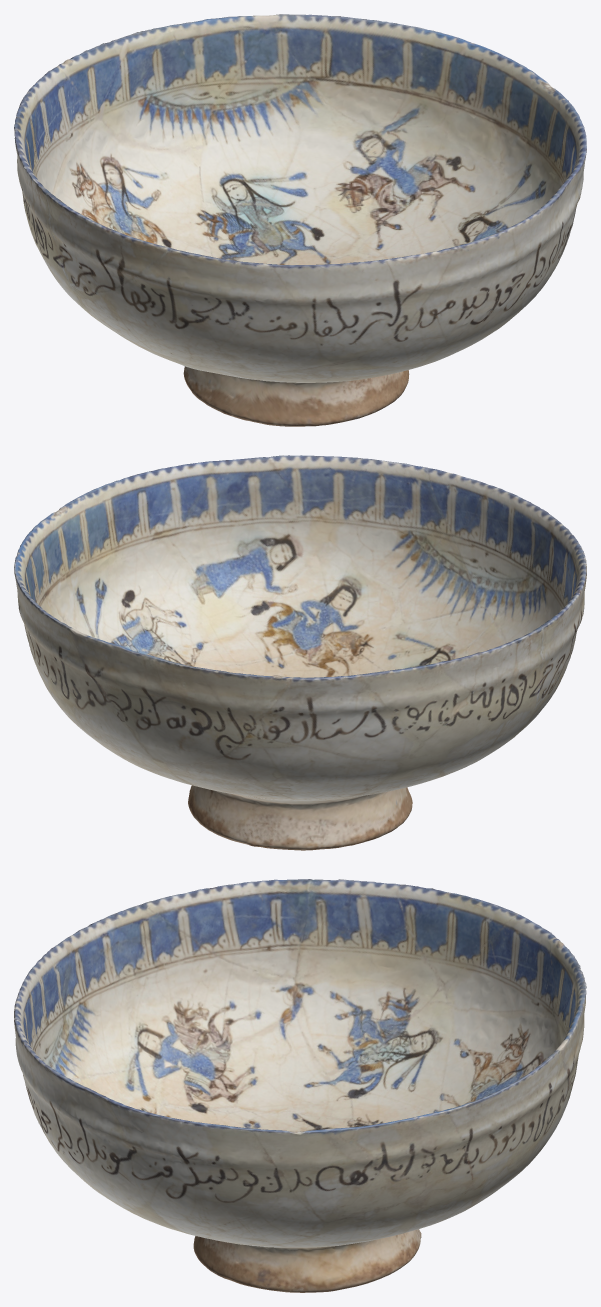
3 views of the same model, one above another, from view 1: azimuth 30°, elevation 25°; view 2: azimuth 150°, elevation 25°; view 3: azimuth 270°, elevation 25° (orthographic).
Visible parts, largest first — view 1: Object_2; view 2: Object_2; view 3: Object_2.
Boxes of the visible parts, x1,y1,x2,y2 form: Object_2: [14, 14, 586, 426]; Object_2: [14, 455, 586, 850]; Object_2: [14, 879, 586, 1292].
Bounding box in the file's own units: 0.1857 × 0.0904 × 0.1833.
Materials: 1 (1 with a texture image).
